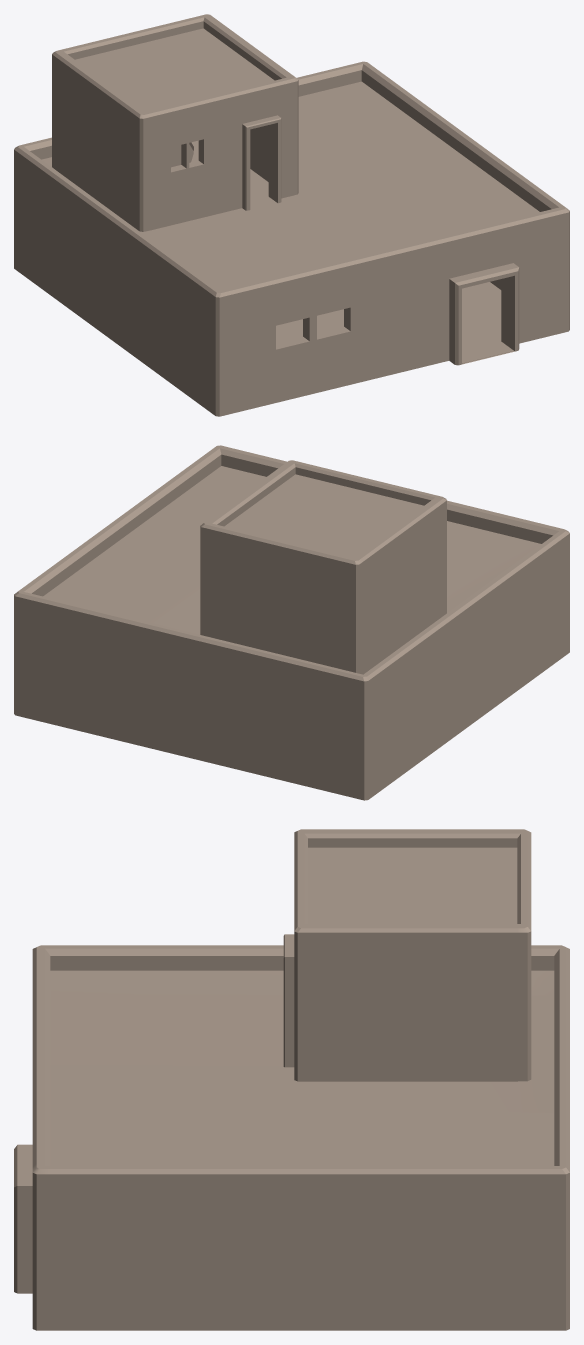
Rendered from hovel.fbx.
3 renders of one model, top to bottom at view 1: azimuth 30°, elevation 25°; view 2: azimuth 150°, elevation 25°; view 3: azimuth 270°, elevation 25°, orthographic. The views are drawn at different scales.
Parts seen in each view (by area): view 1: hovel_interior2; view 2: hovel_interior2; view 3: hovel_interior2.
Boxes of the visible parts, left/top/right/bottom form: hovel_interior2: left=14, top=14, right=569, bottom=416; hovel_interior2: left=14, top=445, right=569, bottom=800; hovel_interior2: left=14, top=829, right=569, bottom=1330.
Bounding box in the file's own units: 23.94 × 14.31 × 24.79.
